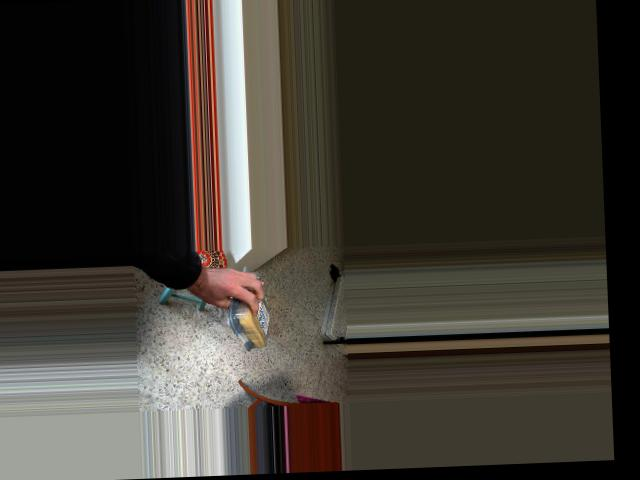cheese: (225, 276, 275, 353)
